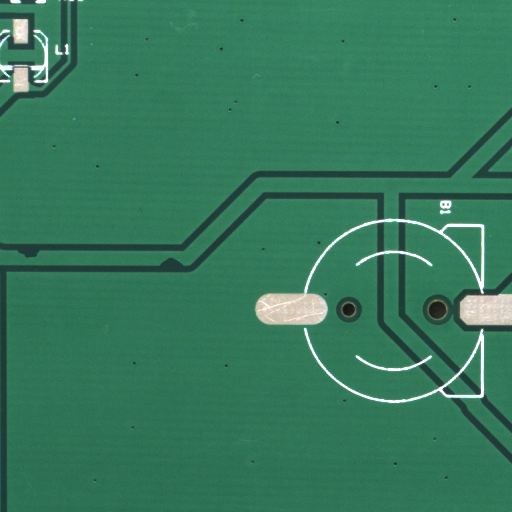Mouse_bite: (29, 250, 61, 271), (172, 263, 203, 282)
